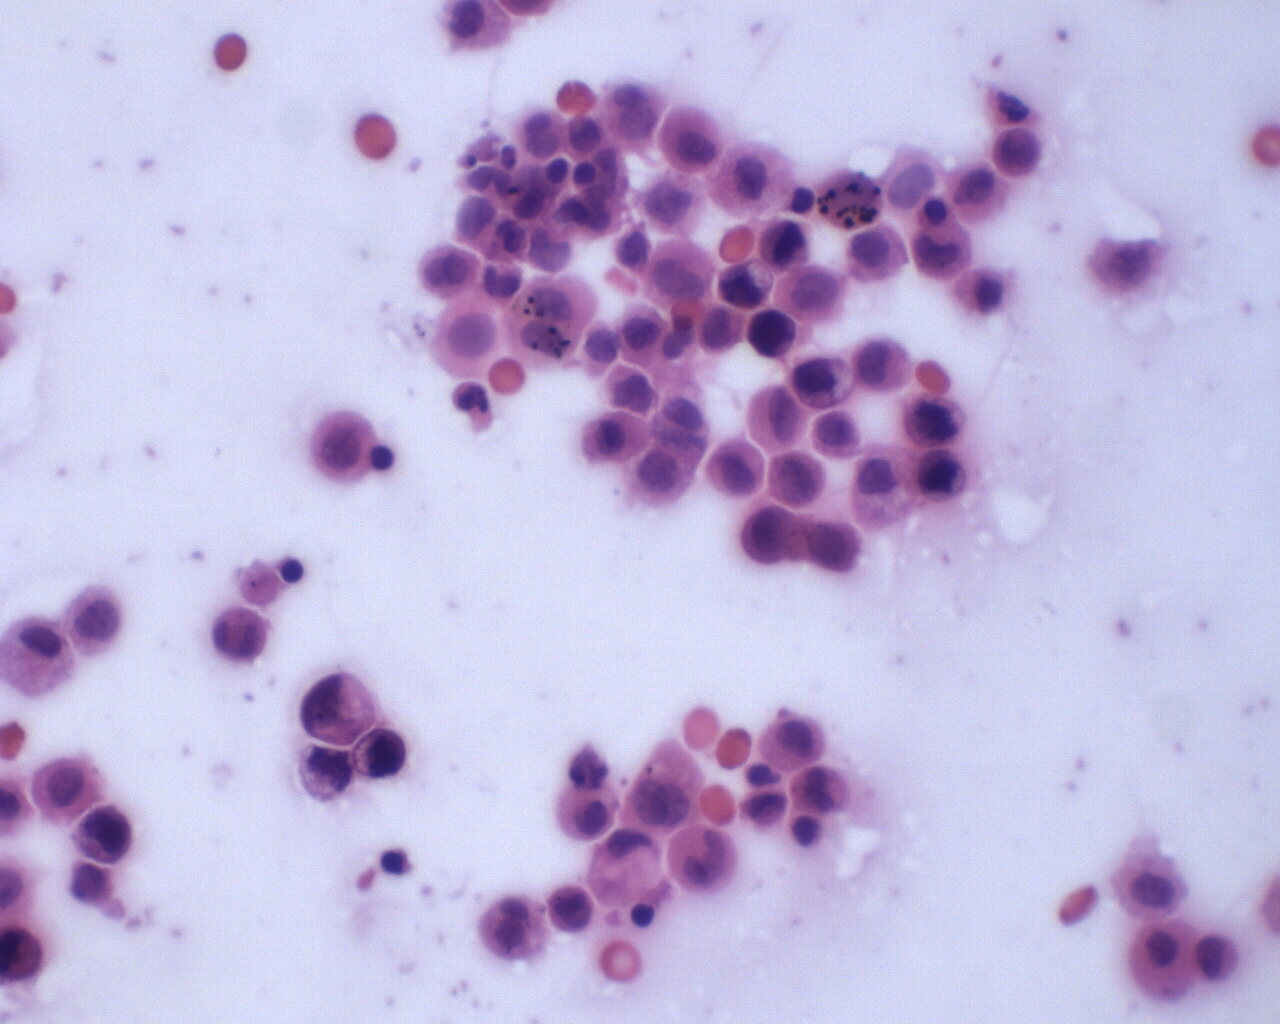ab: (703, 435, 774, 505), (295, 740, 356, 808), (767, 449, 832, 512), (902, 394, 970, 452), (787, 763, 853, 822), (802, 515, 865, 577), (738, 503, 798, 565), (71, 802, 132, 865), (788, 353, 856, 409), (210, 605, 271, 667), (745, 307, 802, 363), (759, 213, 812, 273), (352, 723, 408, 779), (991, 126, 1047, 180), (915, 447, 965, 505), (543, 885, 595, 939)
histo: (1124, 916, 1201, 1005), (586, 828, 666, 910)
lymph: (375, 844, 416, 878), (275, 557, 308, 589), (369, 444, 395, 471)
meso: (1, 613, 76, 702), (307, 403, 379, 486), (654, 101, 724, 173), (578, 408, 654, 466)
neutro: (448, 377, 495, 419)
